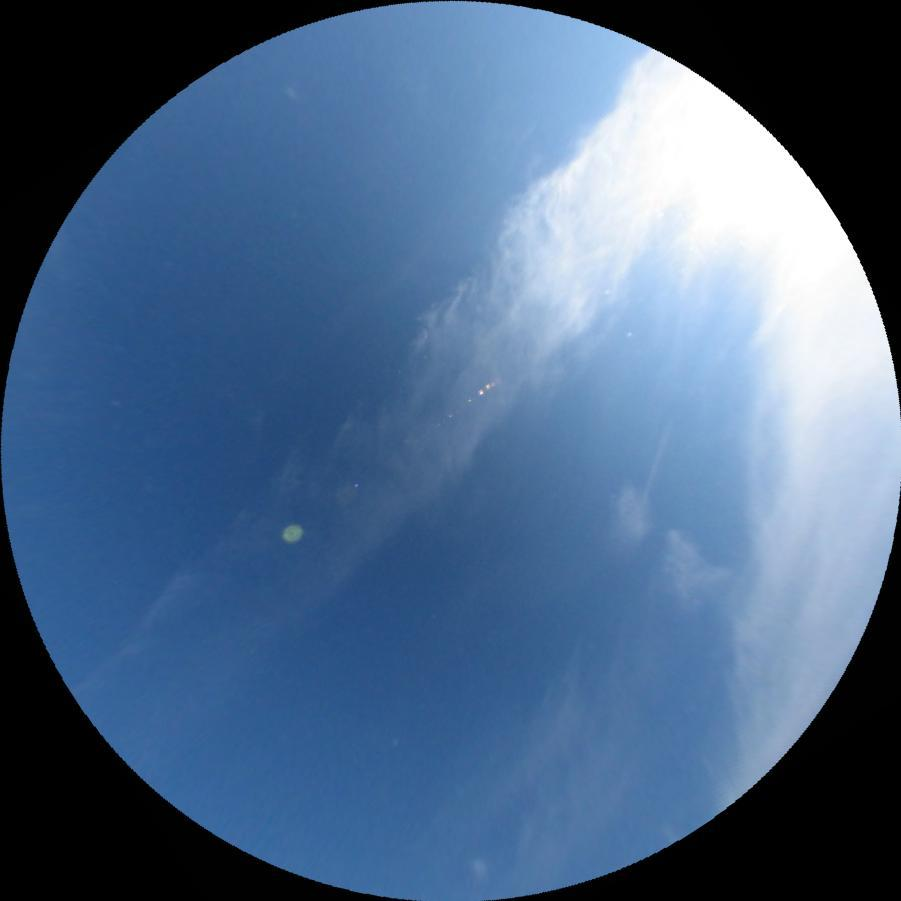contrail veryold: (212, 51, 750, 637), (583, 479, 734, 618)
unknow: (637, 431, 668, 503)
